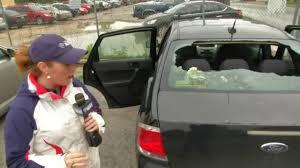Rear-windscreen-Damage: (171, 33, 299, 98)
